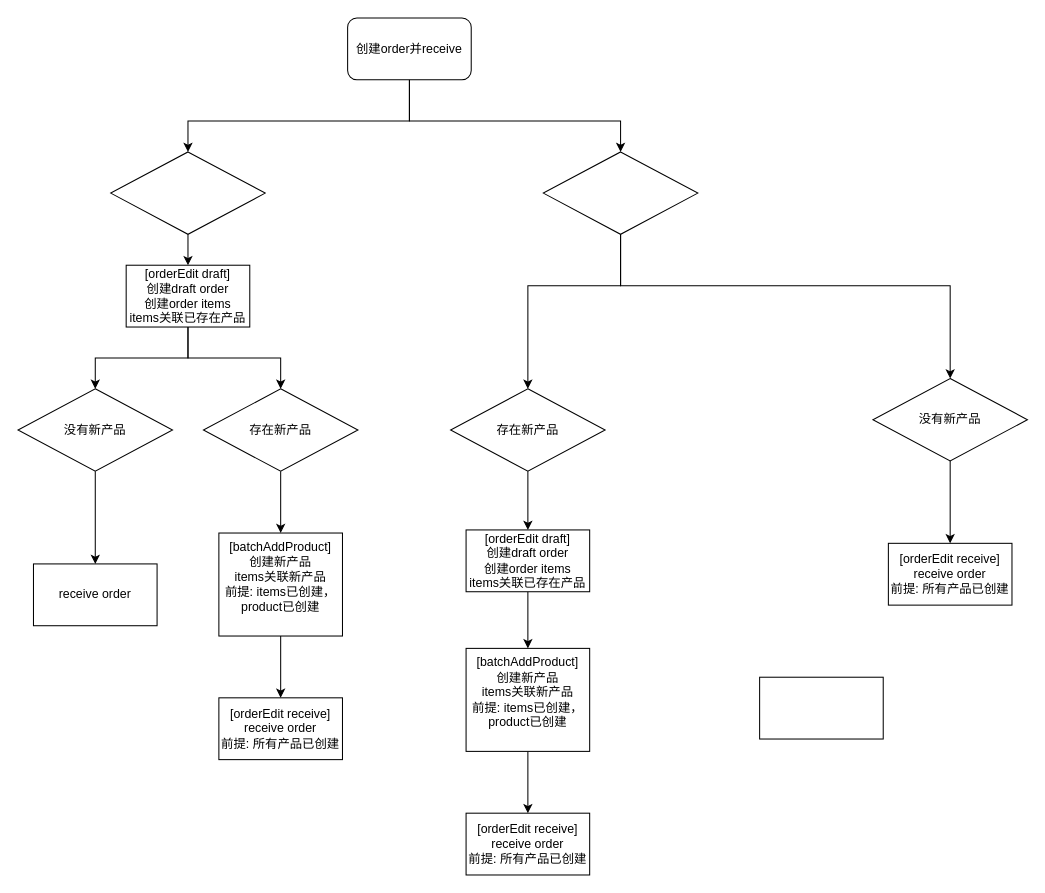
Image size: 1045x893. Some labels were removed from this diagram. Here are the shapes that lost their labels. From the top down, the box of each, then its label:
(110, 151, 265, 234): 创建draft order
(542, 151, 698, 234): 创建receive order
